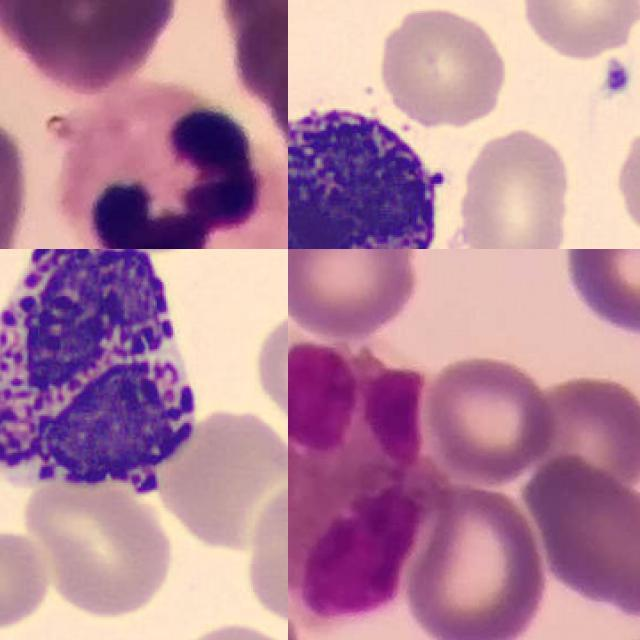Basophil: (0, 249, 212, 509), (288, 87, 451, 249)
Eosinophil: (288, 331, 441, 627)
Neutrophil: (58, 82, 288, 249)
RBC: (13, 464, 184, 622), (376, 3, 511, 130), (452, 123, 578, 249), (512, 0, 640, 62), (242, 476, 288, 633), (0, 525, 52, 632), (249, 304, 288, 444), (165, 620, 288, 640)
